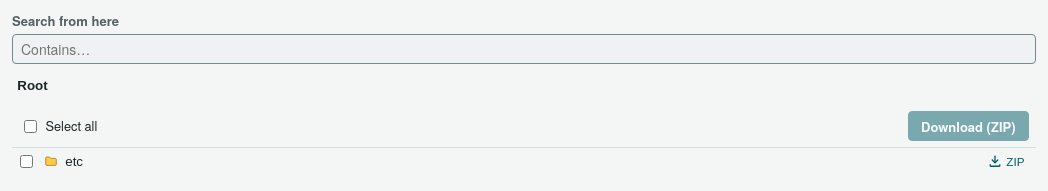
FileIndexBrowserPanel › navigates into a directory on click and updates the breadcrumb
Expected: the text "etc" is shown, [65,154,83,168]
Click the button "etc" at (51, 161), box [36,148,976,174]
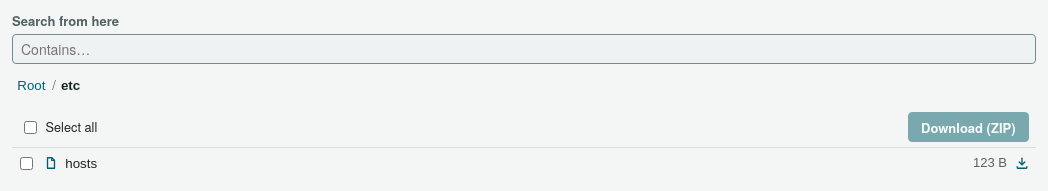
Expected: the button "etc" is disabled, [56,76,86,96]
Expected: the text "hosts" is shown, [65,156,97,171]
